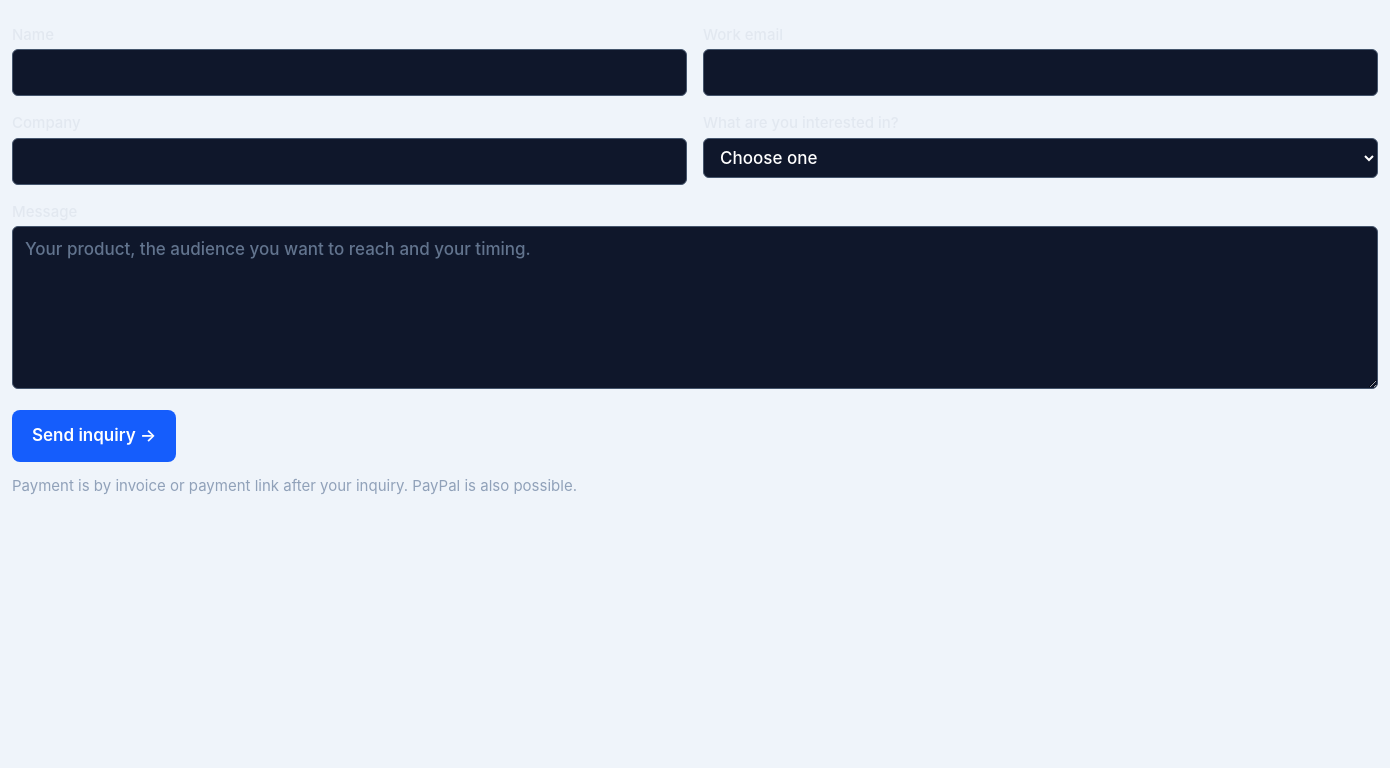
Test: sponsor inquiry recovery › preserves every field and the retry draft for HTTP 503 and {"success":false,"stored":true,"error":"Saved; notification failed. Please retry."}
In the field labelled "Name": (350, 73) x1=12 y1=49 x2=687 y2=96, type "Reliability test"
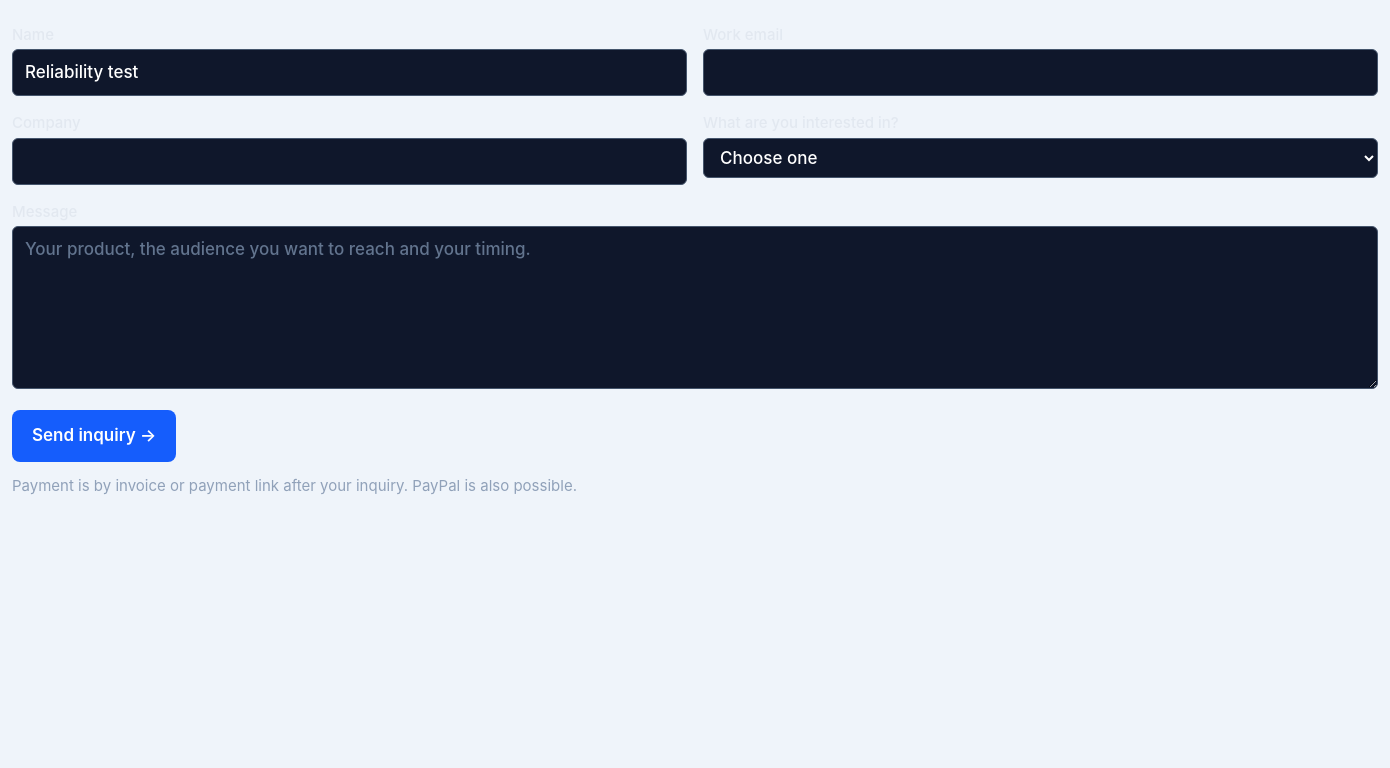
In the field labelled "Work email": (1040, 73) x1=703 y1=49 x2=1378 y2=96, type "test@example.com"
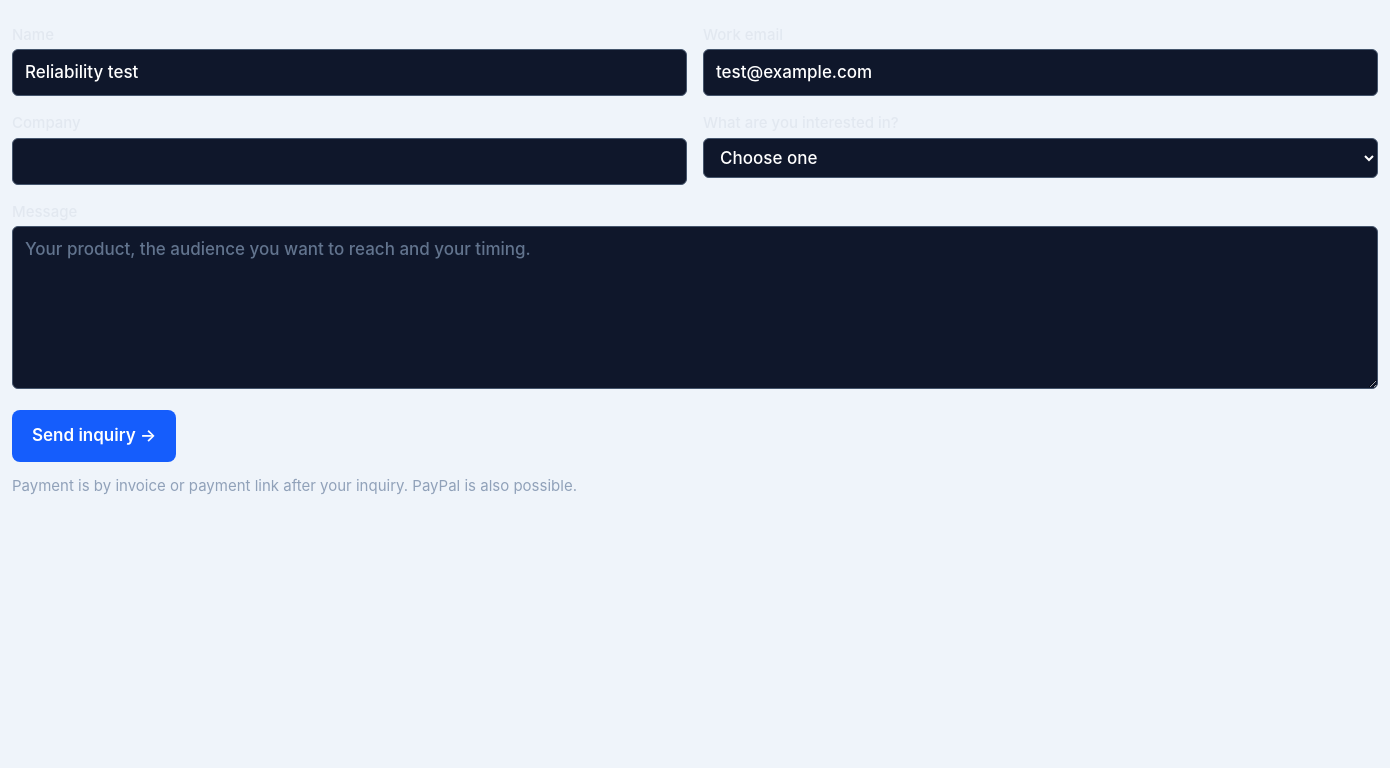
In the field labelled "Company": (350, 161) x1=12 y1=138 x2=687 y2=185, type "Synthetic test"
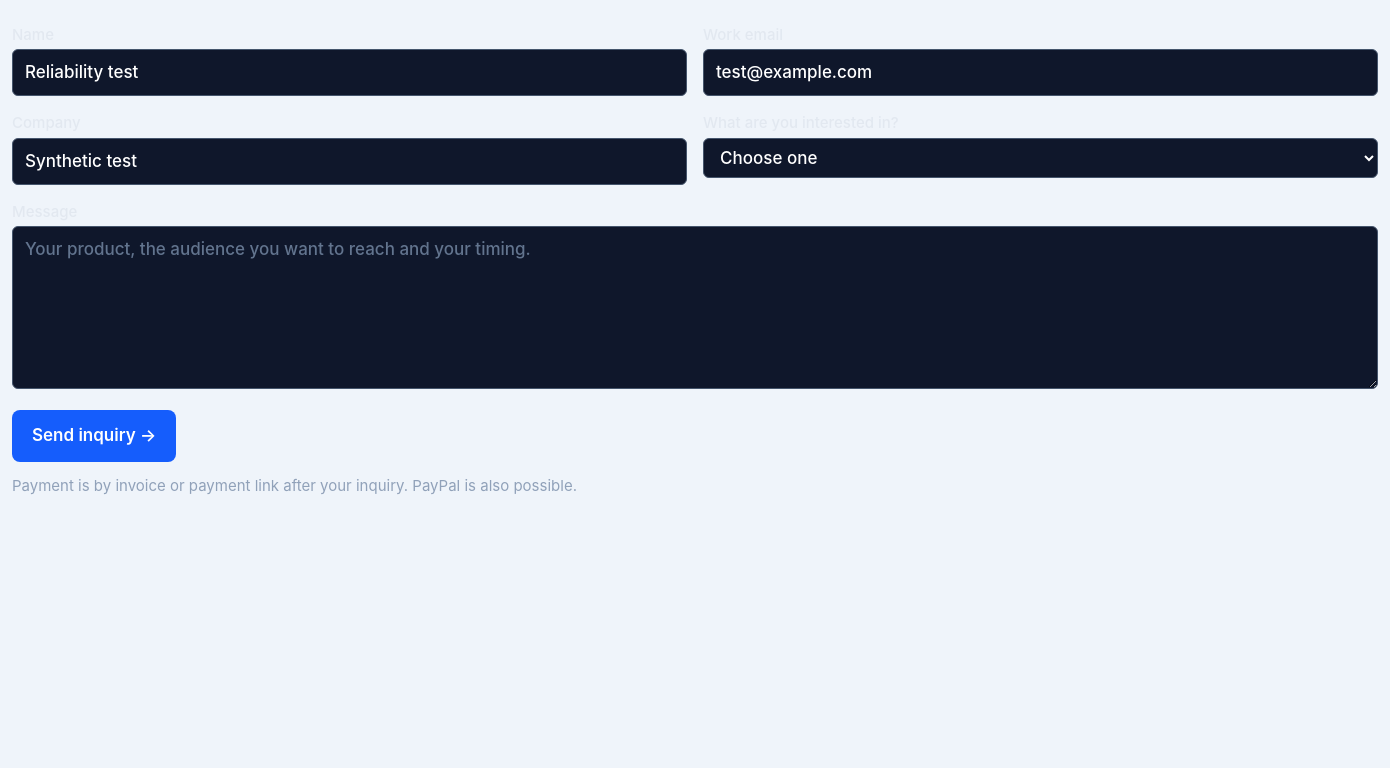
Select "Single Brief slot — $39" in the dropdown labelled "What are you interested in?": (1040, 158) x1=703 y1=138 x2=1378 y2=178
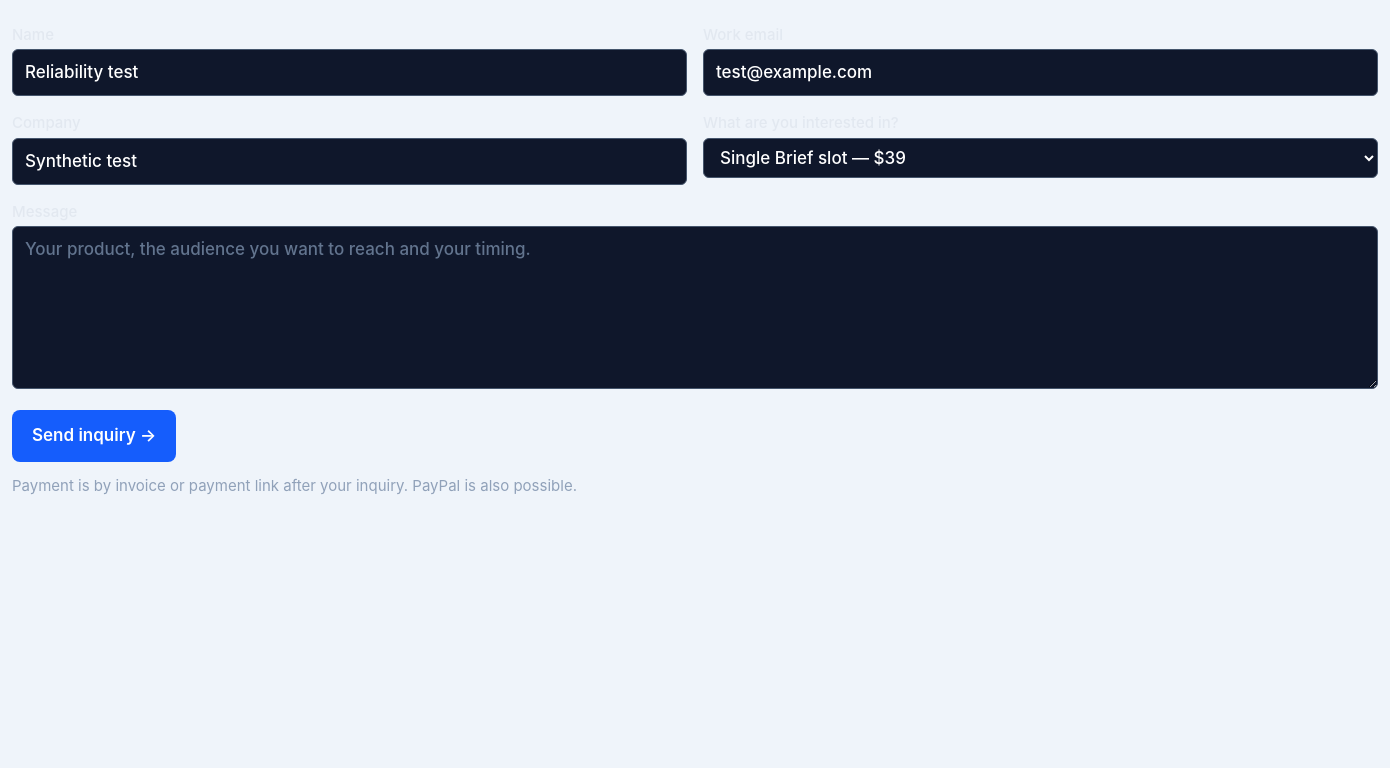
Replace the text in the text box labelled "Message" with "Synthetic inquiry, not a sponsorship booking.": (695, 307) x1=12 y1=226 x2=1378 y2=388
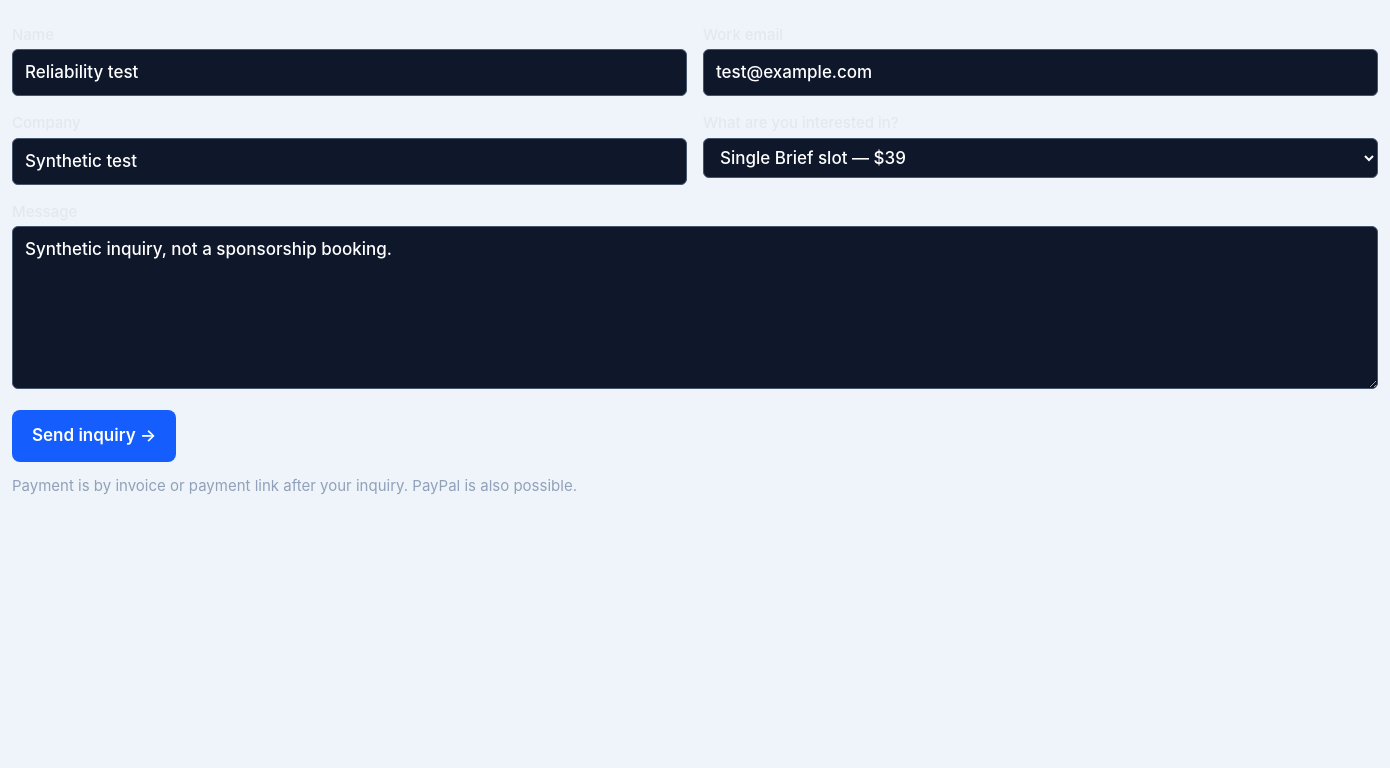
Submit the form
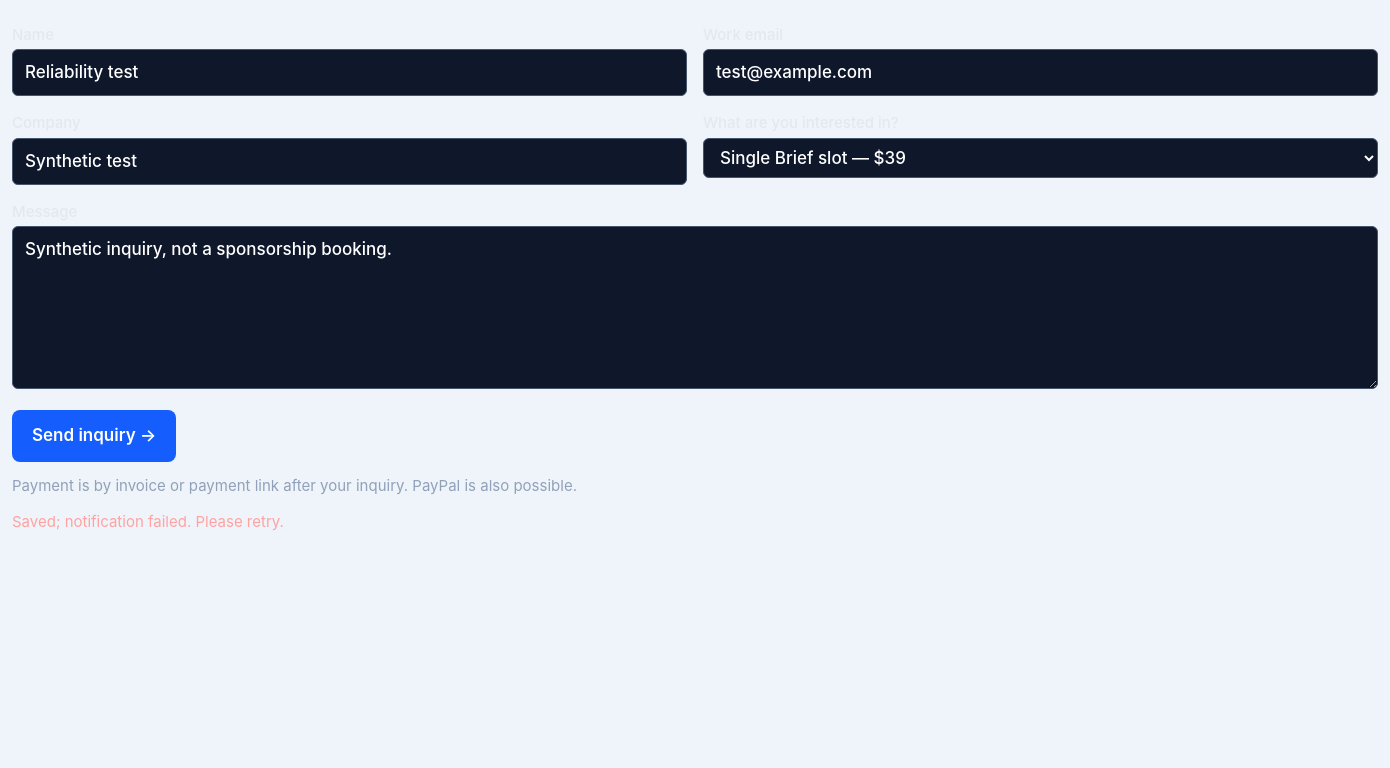
expect the message "Saved; notification failed. Please retry." is shown: met, box x1=12 y1=512 x2=284 y2=531
